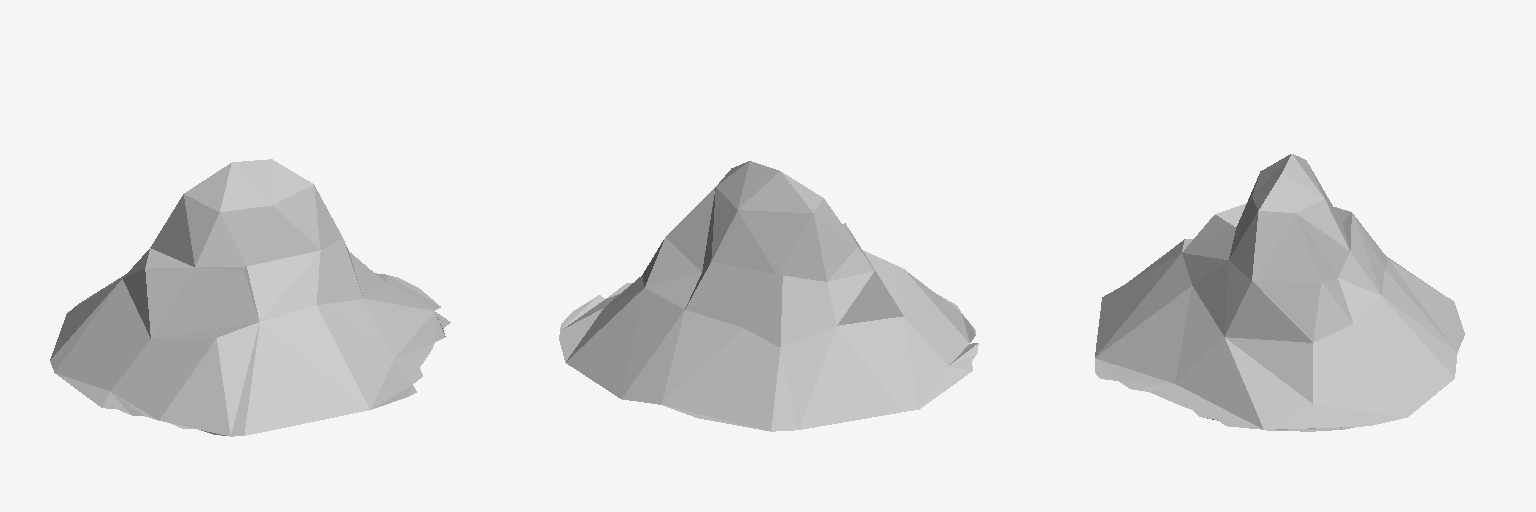
File: Mountain_1_LOD_Low.obj
3 views of the same model, side by side, from view 1: azimuth 30°, elevation 25°; view 2: azimuth 150°, elevation 25°; view 3: azimuth 270°, elevation 25° (orthographic).
Parts seen in each view (by area): view 1: Mountain_1_LOD_Low_Plane.001; view 2: Mountain_1_LOD_Low_Plane.001; view 3: Mountain_1_LOD_Low_Plane.001.
Boxes of the visible parts, x1,y1,x2,y2 form: Mountain_1_LOD_Low_Plane.001: [50, 159, 450, 436]; Mountain_1_LOD_Low_Plane.001: [559, 161, 978, 431]; Mountain_1_LOD_Low_Plane.001: [1095, 154, 1464, 431].
Size of the model in its own units: 108 by 53.85 by 96.39.